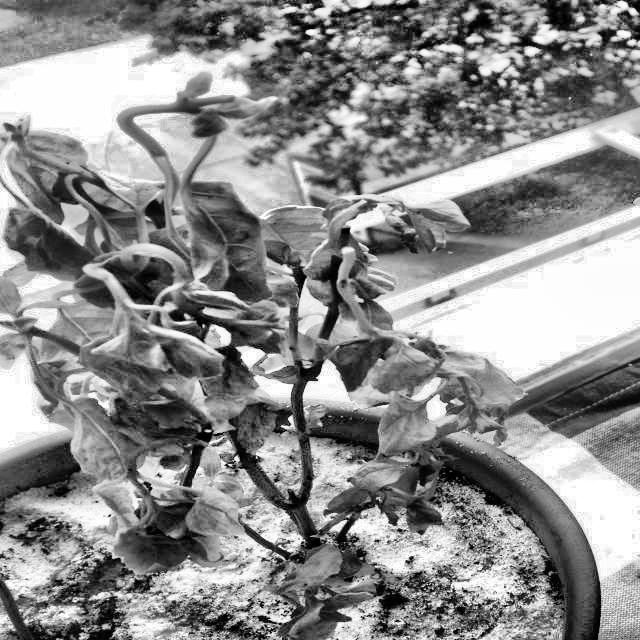plants: (3, 86, 622, 640)
